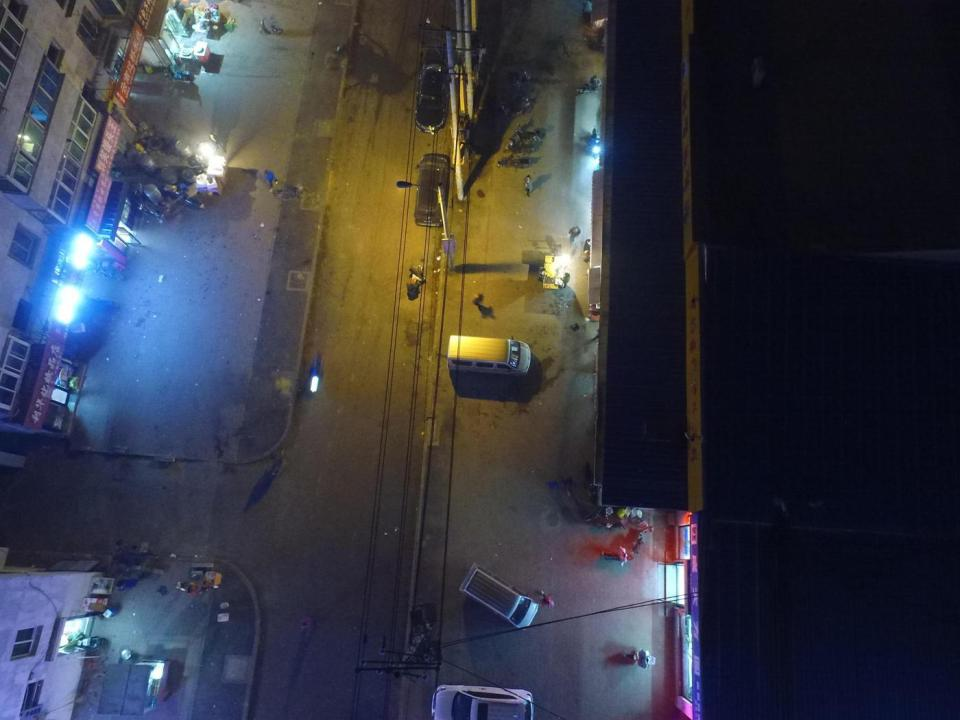car: (431, 684, 532, 720), (414, 64, 450, 132)
van: (459, 562, 538, 629), (446, 334, 531, 376), (414, 154, 450, 226)
